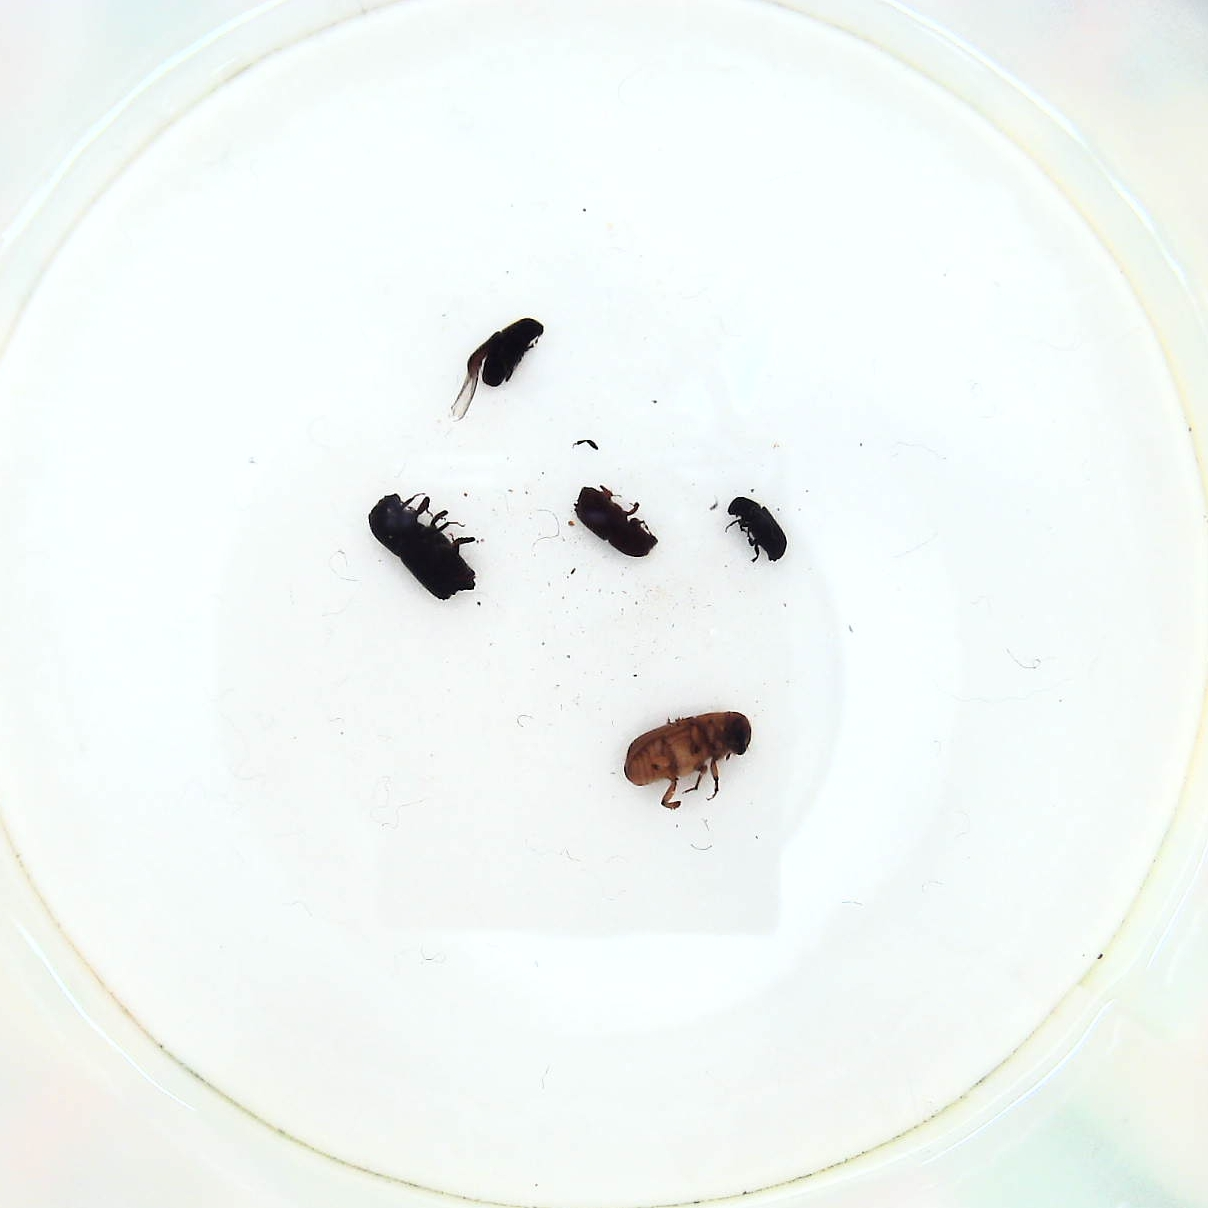Boerner: (367, 493, 489, 600)
Leconte: (623, 712, 759, 810)
armandi: (452, 317, 546, 415)
coleoptera: (723, 493, 791, 567)
linnaeus: (569, 483, 662, 564)
